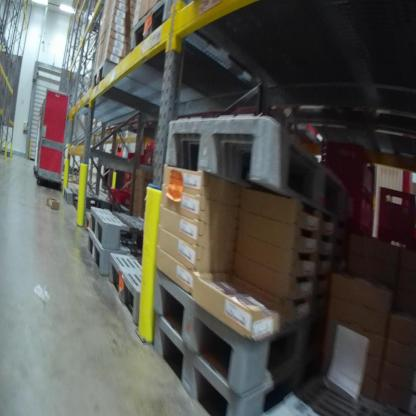pallet: (150, 261, 322, 402), (160, 111, 358, 232), (147, 314, 318, 410), (130, 3, 271, 104), (91, 59, 223, 136), (109, 250, 166, 327), (85, 226, 153, 275), (86, 206, 150, 251), (58, 183, 127, 220)
small_load_carrier: (320, 130, 379, 196), (324, 179, 373, 241), (374, 186, 415, 252)
